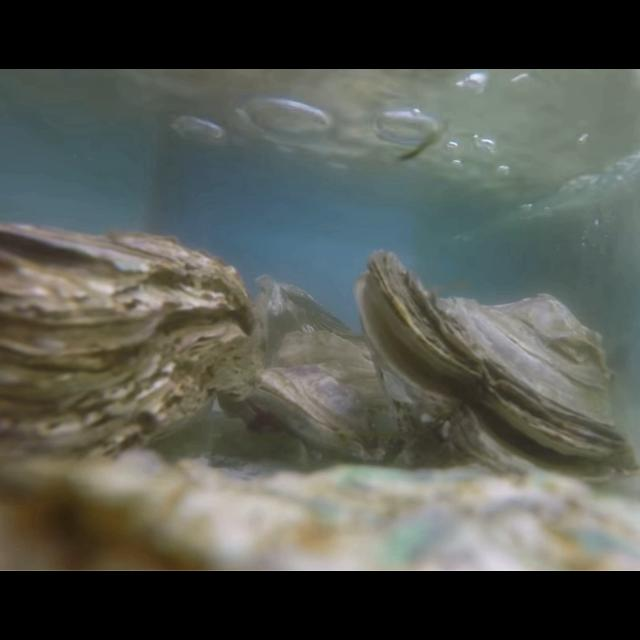Oyster-Closed: (0, 222, 258, 482), (257, 332, 419, 470)
Oyster-Indeterminate: (0, 451, 640, 572), (254, 274, 370, 364)
Oyster-Open: (352, 250, 640, 494)
